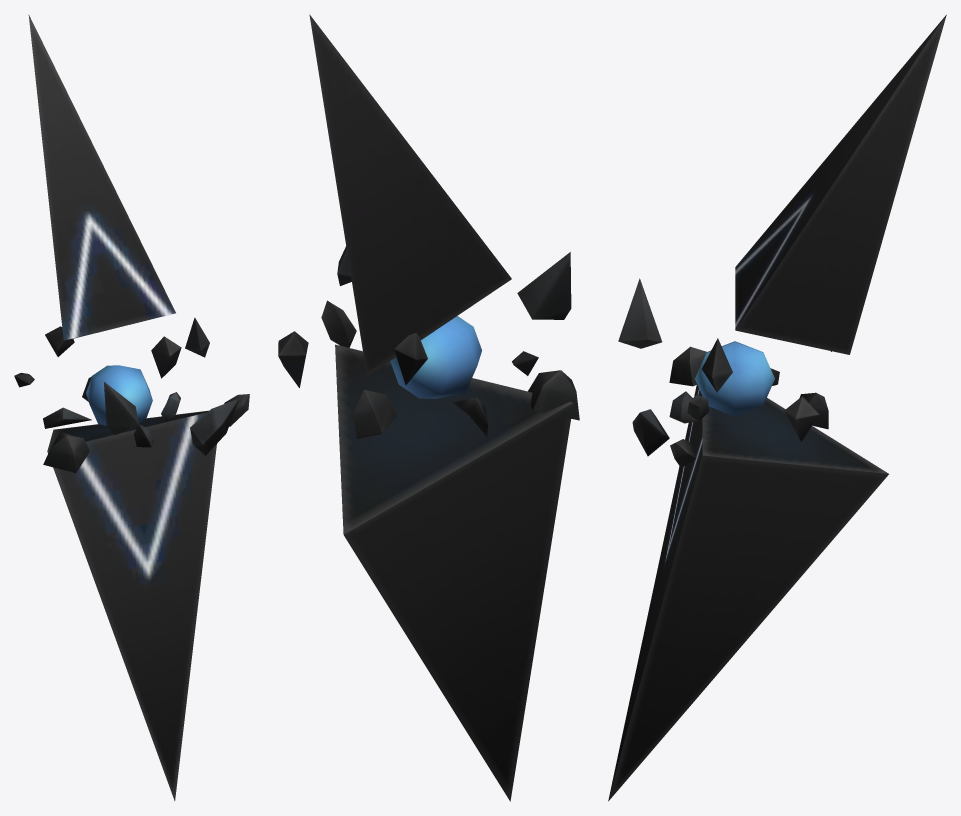
Rendered from heishiying.fbx.
The picture shows the model from 3 angles, left to right: view 1: azimuth 30°, elevation 25°; view 2: azimuth 150°, elevation 25°; view 3: azimuth 270°, elevation 25°; orthographic projection. The views are drawn at different scales.
Parts seen in each view (by area): view 1: mesh_shalom_weapon_0.002, mesh_shalom_weapon_0.001, mesh_shalom_weapon_0; view 2: mesh_shalom_weapon_0.002, mesh_shalom_weapon_0.001, mesh_shalom_weapon_0; view 3: mesh_shalom_weapon_0.002, mesh_shalom_weapon_0.001, mesh_shalom_weapon_0.
Boxes of the visible parts, x1,y1,x2,y2 form: mesh_shalom_weapon_0.002: [47, 410, 216, 801]; mesh_shalom_weapon_0.001: [28, 14, 175, 340]; mesh_shalom_weapon_0: [14, 317, 249, 472]; mesh_shalom_weapon_0.002: [335, 344, 573, 801]; mesh_shalom_weapon_0.001: [309, 14, 511, 376]; mesh_shalom_weapon_0: [278, 246, 579, 438]; mesh_shalom_weapon_0.002: [608, 385, 888, 801]; mesh_shalom_weapon_0.001: [735, 14, 946, 354]; mesh_shalom_weapon_0: [618, 278, 831, 467].
Size of the model in its own units: 21.28 by 70.87 by 27.62.
